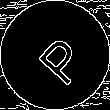P_NW: (24, 25, 86, 85)
